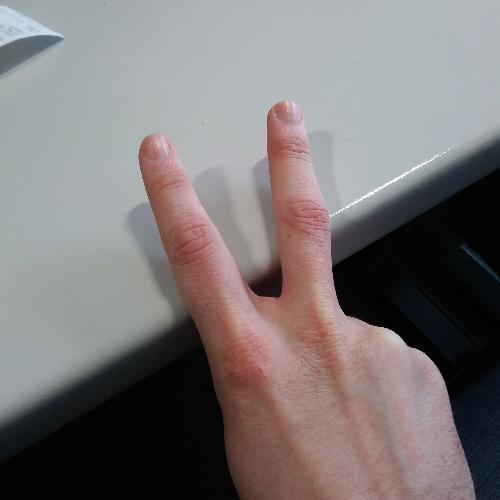scissors: (130, 93, 482, 498)
